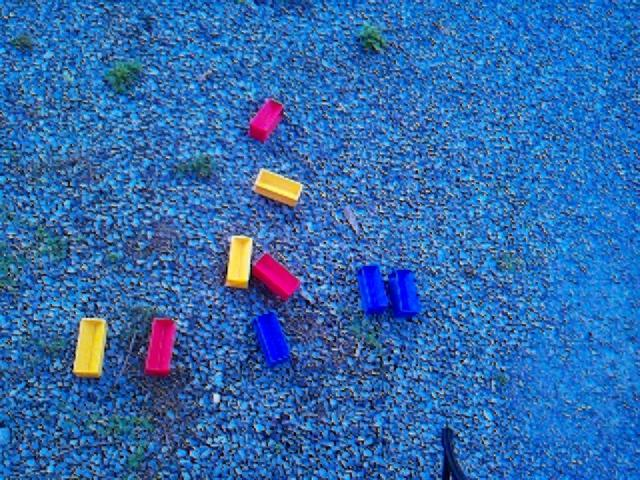blue: (253, 311, 292, 368), (356, 264, 390, 317), (389, 268, 421, 319)
red: (252, 253, 301, 302), (144, 317, 177, 377), (248, 98, 285, 143)
yellow: (73, 317, 108, 379), (252, 168, 304, 208), (225, 235, 253, 289)
